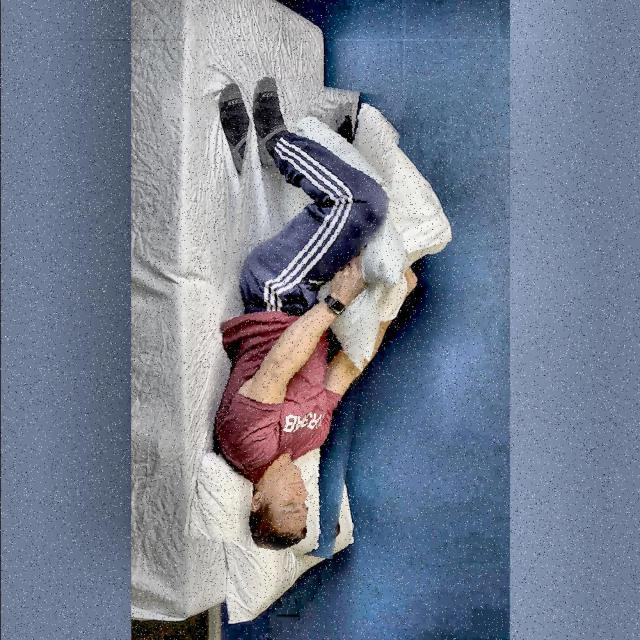Not_Supine: (215, 78, 389, 551)
